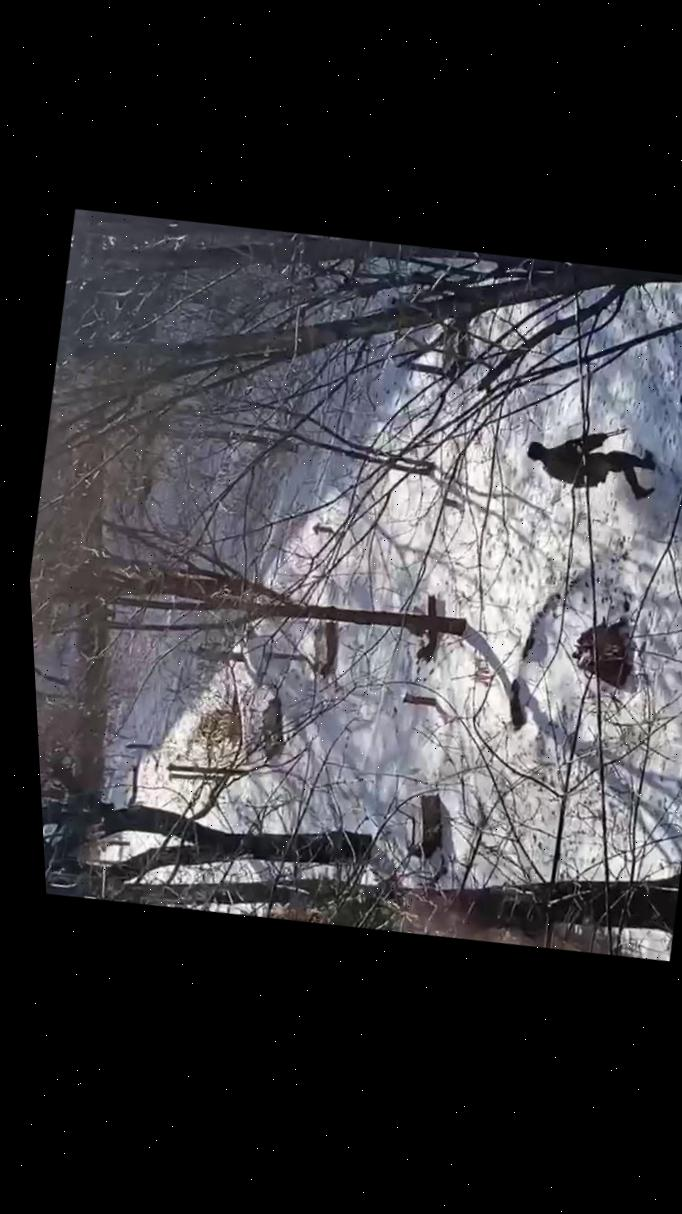person: (516, 405, 665, 511)
